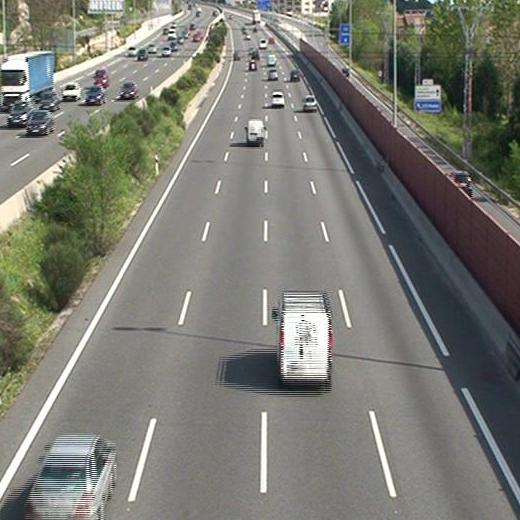car: (26, 437, 118, 520), (302, 95, 318, 111), (270, 91, 285, 106), (290, 69, 302, 81), (267, 69, 278, 82), (247, 60, 258, 73)
van: (274, 292, 332, 387), (246, 121, 268, 145), (266, 55, 276, 65)
